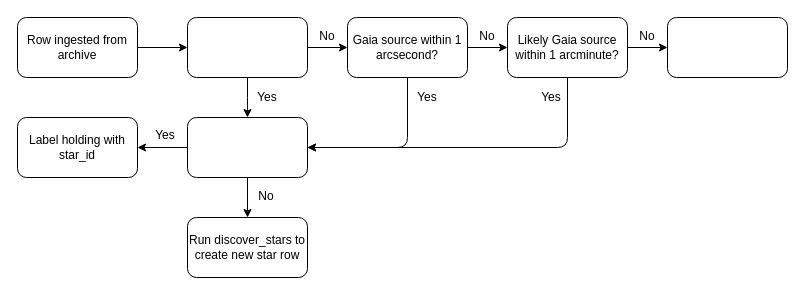
Image size: 805x295. Some labels were removed from this diagram. The shapes that lost their labels are listed below. From the top down, each one's centre as x and y in pixels, then its label:
(x=247, y=47): Target name resolved in Simbad?
(x=727, y=47): Holding marked "skipped"
(x=247, y=147): Does star already exist in database?
